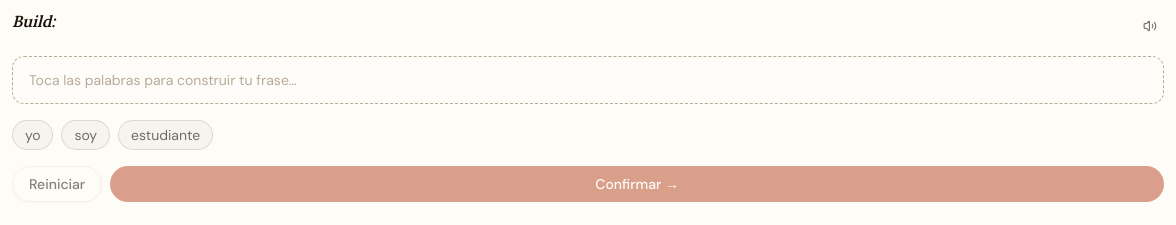
ExerciseRenderer › moves word from bank to construction area on click
Click one of the word bank buttons
What coordinates should you click on to do the following:
click the button with aria-label "Agregar palabra yo"
I would click on:
 (33, 135)
Its box is [12,120,53,150].
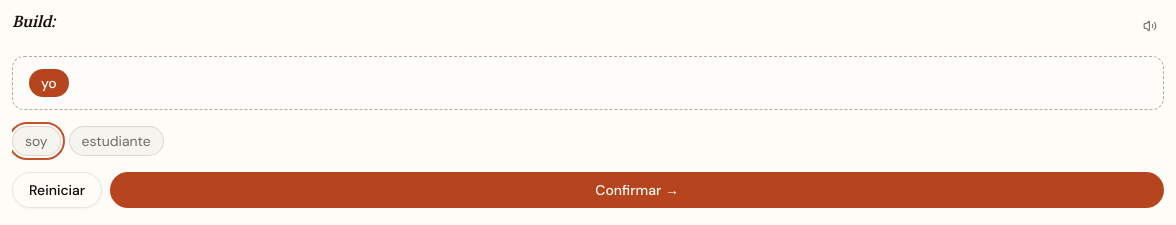
Check: the button "Confirmar →" is enabled, box [110,172,1164,208]
